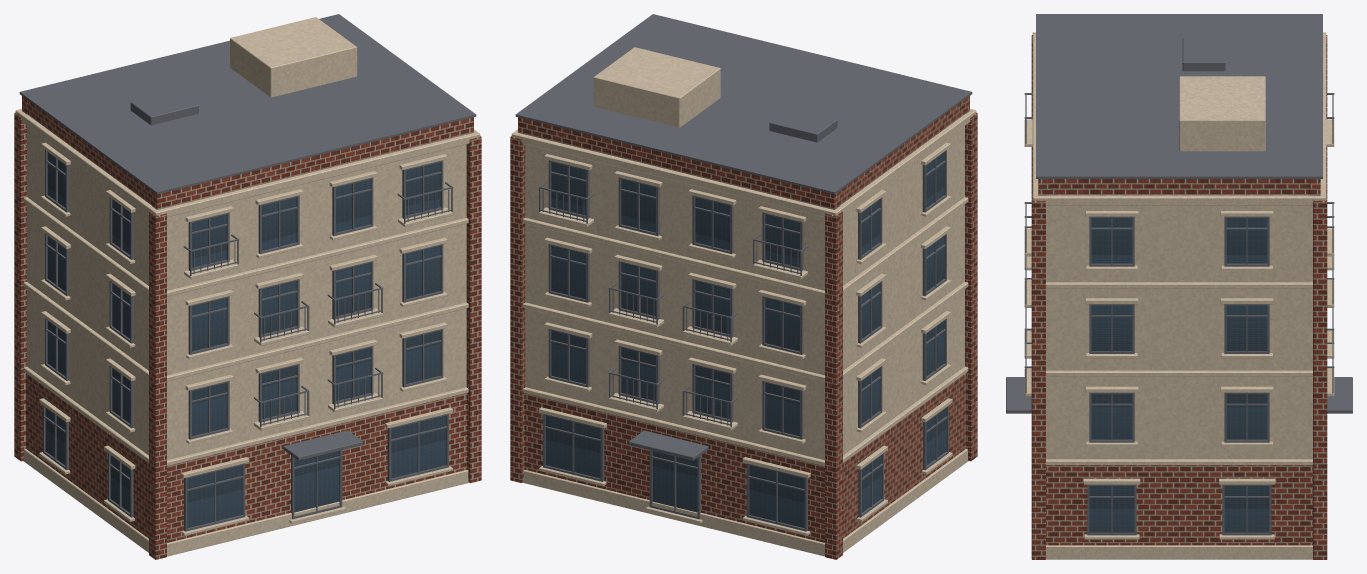
The model's file is bld_urban_facade_aaa-40d19734503a.glb.
The picture shows the model from 3 angles, left to right: view 1: azimuth 30°, elevation 25°; view 2: azimuth 150°, elevation 25°; view 3: azimuth 270°, elevation 25°; orthographic projection. The views are drawn at different scales.
Visible parts, largest first — view 1: bld_urban_facade_aaa; view 2: bld_urban_facade_aaa; view 3: bld_urban_facade_aaa.
Part boxes in pixels (box(x1,y1,x2,y2)): bld_urban_facade_aaa: box(14, 14, 481, 559); bld_urban_facade_aaa: box(510, 14, 977, 559); bld_urban_facade_aaa: box(1006, 14, 1352, 559).
Bounding box in the file's own units: 12.83 × 14.88 × 11.29.
Materials: 4 (3 with a texture image).
